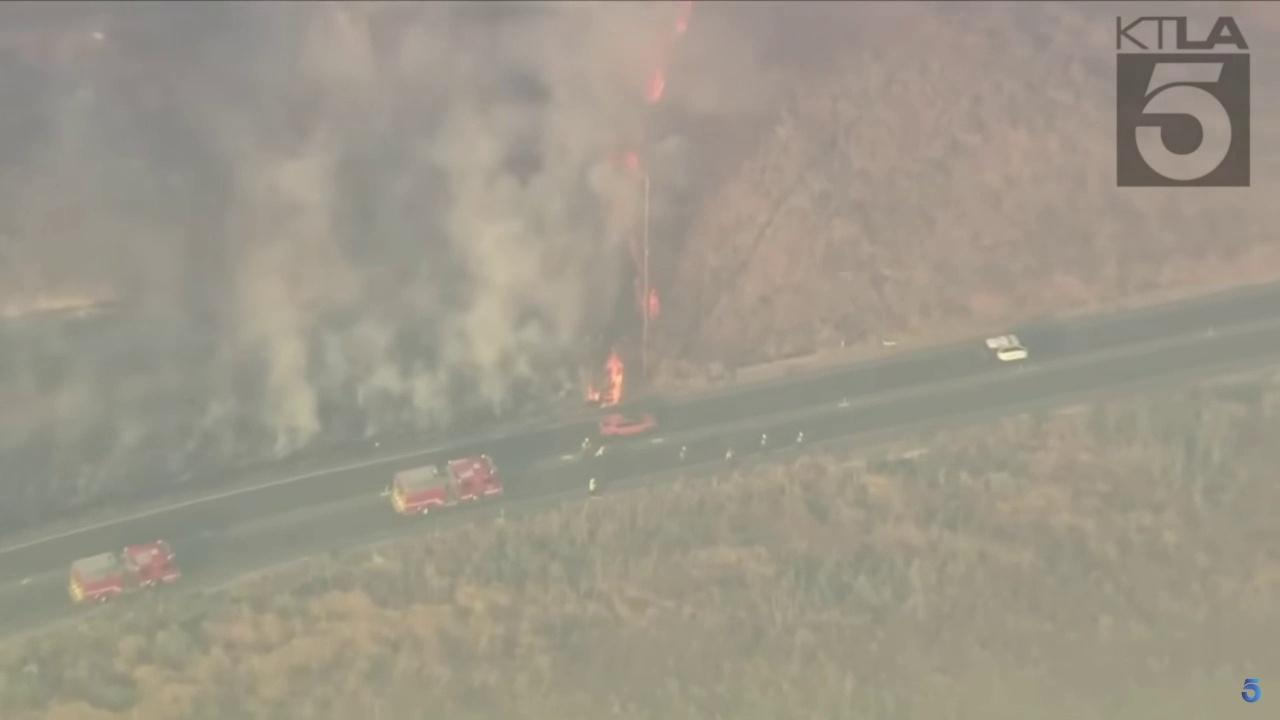fire: (583, 349, 624, 410), (645, 69, 665, 101), (649, 287, 664, 318), (625, 151, 641, 177), (673, 18, 691, 33)
smoke: (0, 0, 769, 510)
